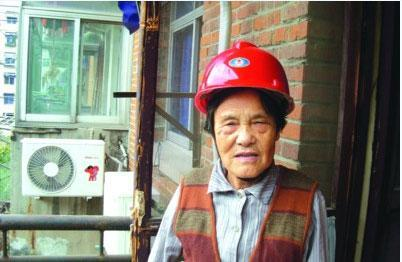helmet: (195, 40, 297, 106)
no-vest: (177, 163, 337, 262)
person: (152, 37, 342, 262)
